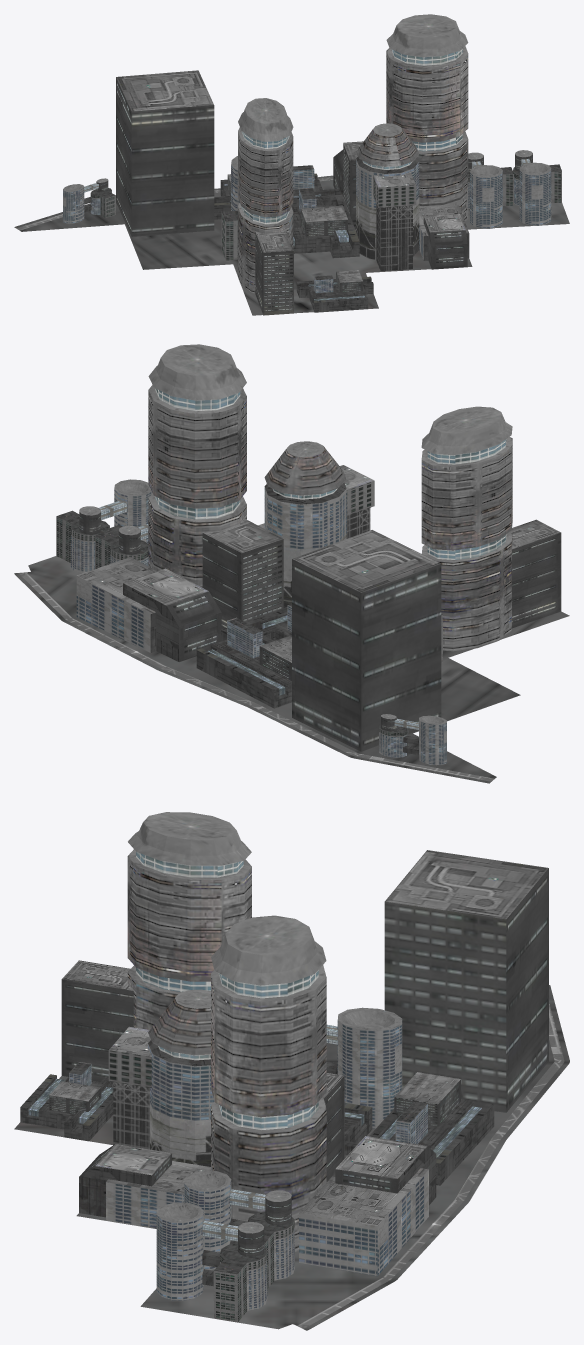
Rendered from imaginary_city_2.glb.
3 renders of one model, top to bottom at view 1: azimuth 30°, elevation 25°; view 2: azimuth 150°, elevation 25°; view 3: azimuth 270°, elevation 25°, orthographic. The views are drawn at different scales.
Parts seen in each view (by area): view 1: BuildingMaterial_m_1, BuildingMaterial_m_12, BuildingMaterial_m_4, CityEngineMaterial_1_m, BuildingMaterial_m_8, BuildingMaterial_m_7, BuildingMaterial_m_9, BuildingMaterial_m_11, BuildingMaterial_m_10, BuildingMaterial_m_5, BuildingMaterial_m_3, BuildingMaterial_m (+2 smaller); view 2: BuildingMaterial_m_1, BuildingMaterial_m_12, BuildingMaterial_m_4, BuildingMaterial_m_2, CityEngineMaterial_1_m, BuildingMaterial_m_8, BuildingMaterial_m, BuildingMaterial_m_11, BuildingMaterial_m_3, CityEngineMaterial_m, BuildingMaterial_m_10, BuildingMaterial_m_7; view 3: BuildingMaterial_m_1, BuildingMaterial_m_12, BuildingMaterial_m_4, BuildingMaterial_m_8, BuildingMaterial_m_2, CityEngineMaterial_1_m, BuildingMaterial_m_11, BuildingMaterial_m, BuildingMaterial_m_9, BuildingMaterial_m_6, BuildingMaterial_m_10, BuildingMaterial_m_5 (+2 smaller).
Boxes of the visible parts, box(x1,y1,x2,y2) form: BuildingMaterial_m_1: box(116, 70, 214, 236); BuildingMaterial_m_12: box(343, 14, 468, 229); BuildingMaterial_m_4: box(238, 98, 293, 315); CityEngineMaterial_1_m: box(14, 175, 569, 315); BuildingMaterial_m_8: box(356, 123, 419, 270); BuildingMaterial_m_7: box(291, 187, 359, 258); BuildingMaterial_m_9: box(419, 205, 469, 269); BuildingMaterial_m_11: box(513, 150, 561, 225); BuildingMaterial_m_10: box(468, 152, 513, 228); BuildingMaterial_m_5: box(296, 270, 373, 312); BuildingMaterial_m_3: box(63, 178, 115, 223); BuildingMaterial_m: box(214, 165, 342, 219); BuildingMaterial_m_1: box(292, 530, 441, 751); BuildingMaterial_m_12: box(148, 344, 283, 629); BuildingMaterial_m_4: box(421, 406, 561, 651); BuildingMaterial_m_2: box(76, 557, 221, 661); CityEngineMaterial_1_m: box(14, 556, 569, 783); BuildingMaterial_m_8: box(264, 441, 374, 607); BuildingMaterial_m: box(196, 617, 291, 708); BuildingMaterial_m_11: box(56, 479, 152, 573); BuildingMaterial_m_3: box(379, 714, 446, 765); CityEngineMaterial_m: box(19, 572, 494, 781); BuildingMaterial_m_10: box(95, 524, 148, 568); BuildingMaterial_m_7: box(244, 604, 291, 640); BuildingMaterial_m_1: box(384, 850, 548, 1112); BuildingMaterial_m_12: box(211, 915, 344, 1251); BuildingMaterial_m_4: box(61, 812, 251, 1083); BuildingMaterial_m_8: box(108, 989, 214, 1166); BuildingMaterial_m_2: box(299, 1136, 436, 1276); CityEngineMaterial_1_m: box(14, 985, 569, 1330); BuildingMaterial_m_11: box(156, 1202, 267, 1322); BuildingMaterial_m: box(369, 1072, 494, 1185); BuildingMaterial_m_9: box(79, 1144, 210, 1228); BuildingMaterial_m_6: box(326, 1007, 402, 1128); BuildingMaterial_m_10: box(184, 1170, 294, 1288); BuildingMaterial_m_5: box(20, 1062, 113, 1141).
Bounding box in the file's own units: 289 × 116 × 198.
Materials: 3 (3 with a texture image).
